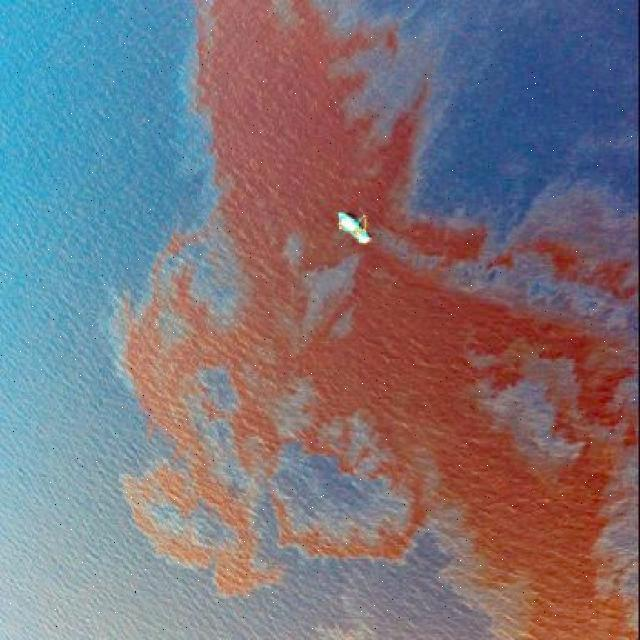oil: (97, 7, 446, 596), (441, 177, 640, 640)
